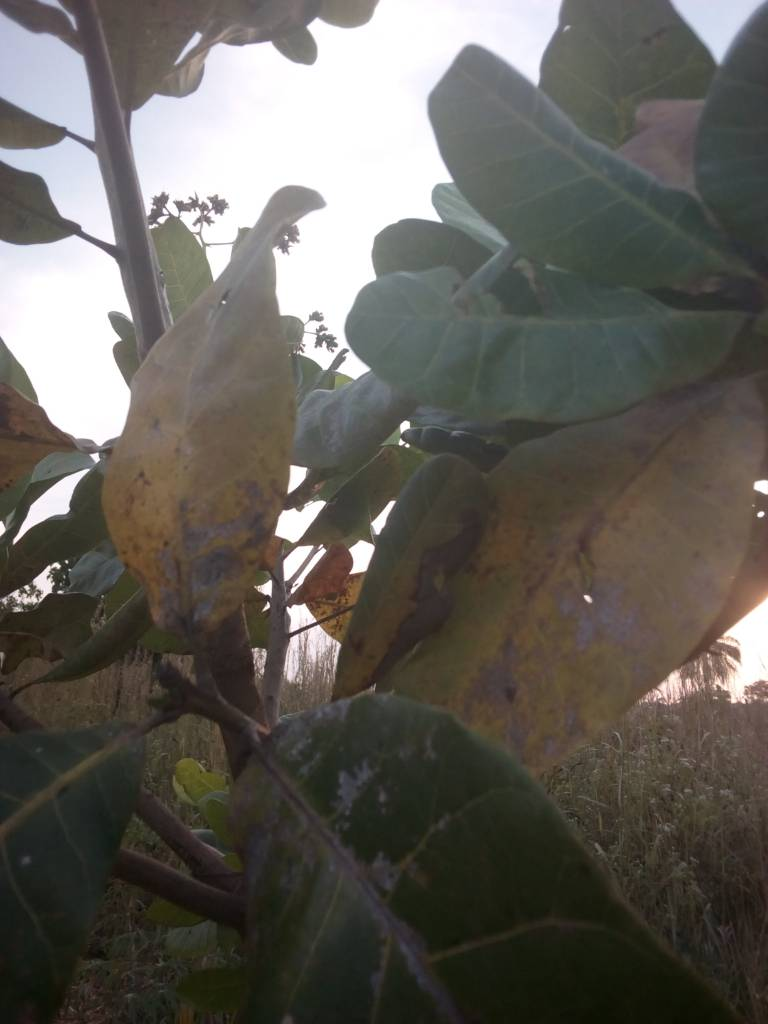Anthracnose: (396, 372, 765, 755), (104, 185, 324, 636), (211, 707, 494, 1017)
